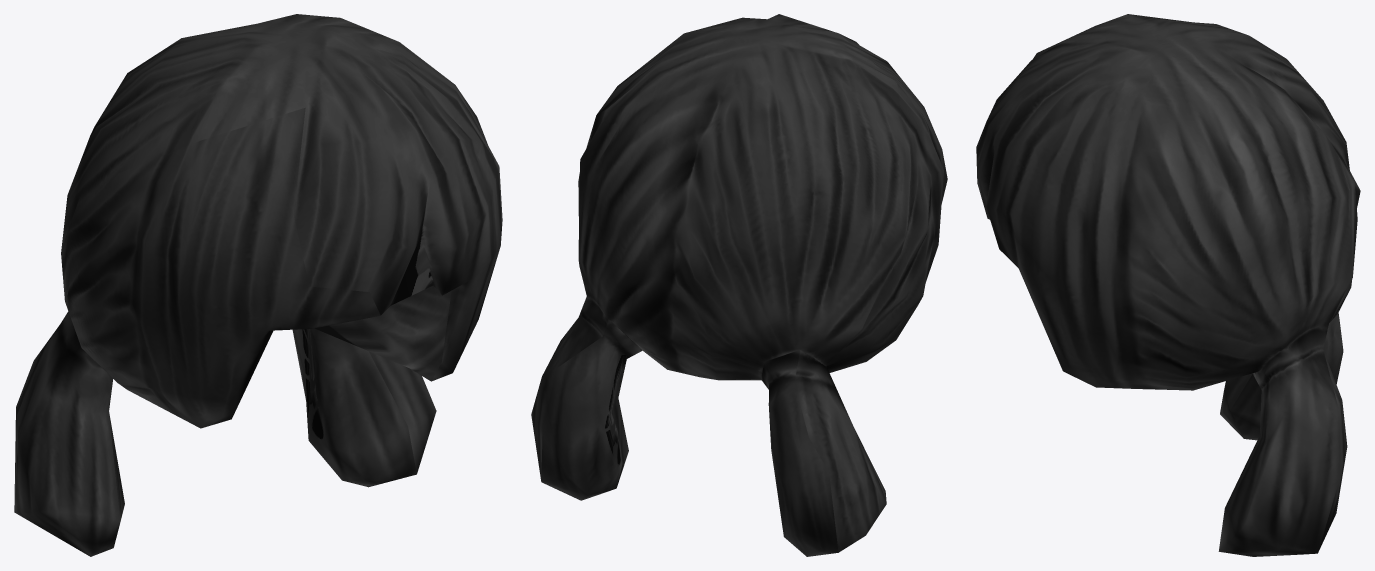
Rendered from AF_M_hair_G_04.fbx.
3 views of the same model, side by side, from view 1: azimuth 30°, elevation 25°; view 2: azimuth 150°, elevation 25°; view 3: azimuth 270°, elevation 25° (orthographic). The views are drawn at different scales.
Parts seen in each view (by area): view 1: AF_M_hair_G_04; view 2: AF_M_hair_G_04; view 3: AF_M_hair_G_04.
Part boxes in pixels (box(x1,y1,x2,y2)): AF_M_hair_G_04: box(14, 14, 502, 556); AF_M_hair_G_04: box(531, 14, 947, 556); AF_M_hair_G_04: box(976, 14, 1360, 556).
Bounding box in the file's own units: 759 × 960 × 724.
